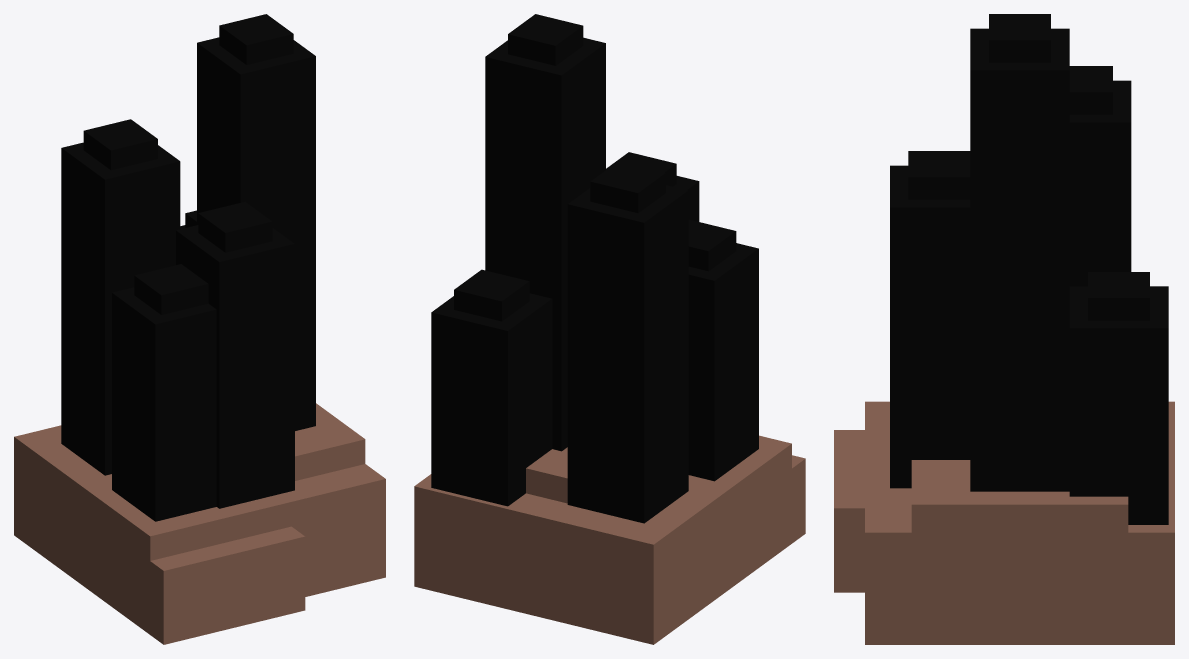
The model's file is TubeCoral_Pink.obj.
3 renders of one model, left to right at view 1: azimuth 30°, elevation 25°; view 2: azimuth 150°, elevation 25°; view 3: azimuth 270°, elevation 25°, orthographic. The views are drawn at different scales.
Parts seen in each view (by area): view 1: TubeCoral_Pink; view 2: TubeCoral_Pink; view 3: TubeCoral_Pink.
Boxes of the visible parts, x1,y1,x2,y2 form: TubeCoral_Pink: [14, 14, 385, 644]; TubeCoral_Pink: [414, 14, 805, 644]; TubeCoral_Pink: [834, 14, 1174, 644].
Size of the model in its own units: 5 by 10.4 by 5.5.
